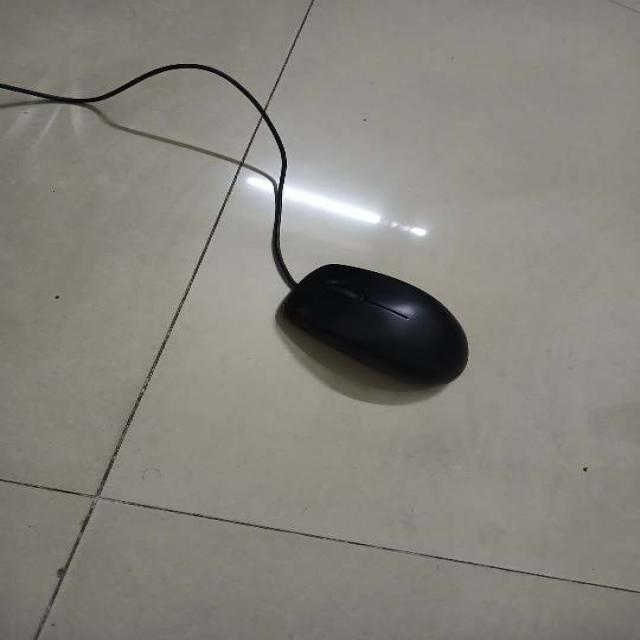mouse: (267, 258, 480, 397)
